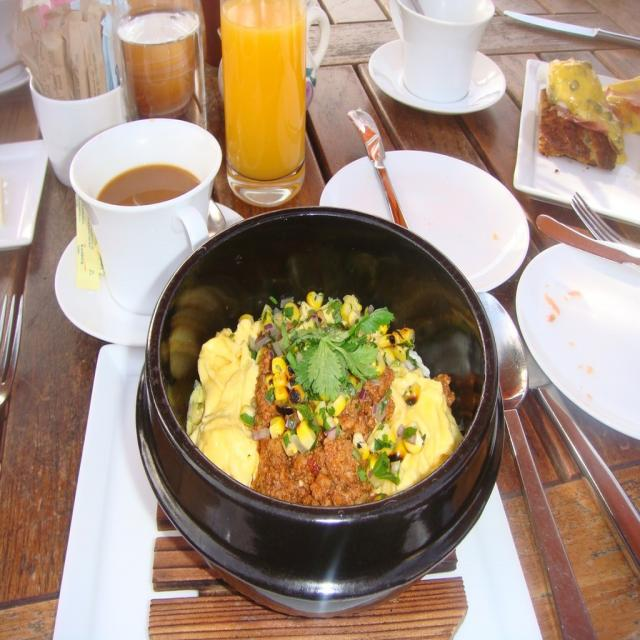Coffee: (97, 159, 203, 204)
Tea: (97, 162, 204, 206)
